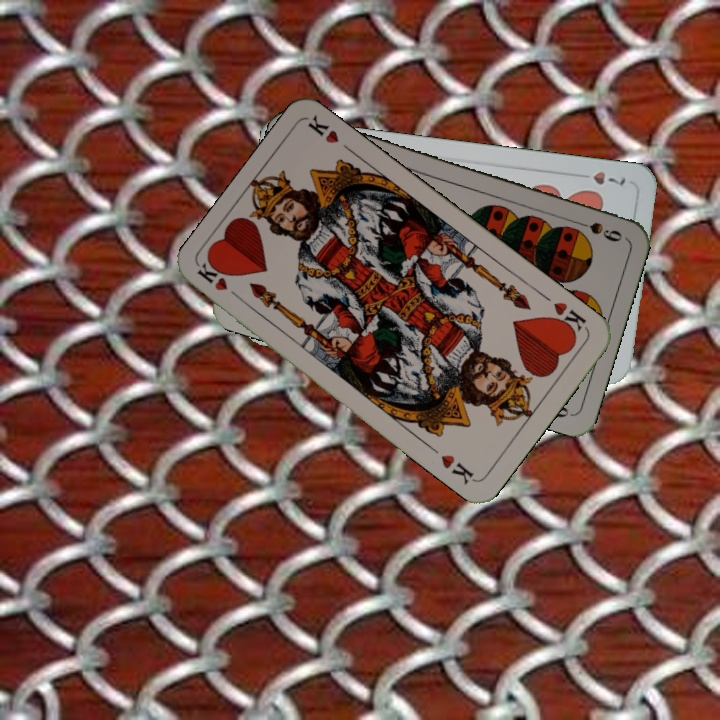H7: (572, 167, 629, 188)
HK: (193, 259, 247, 305), (546, 297, 590, 339)
S9: (568, 216, 625, 245)
